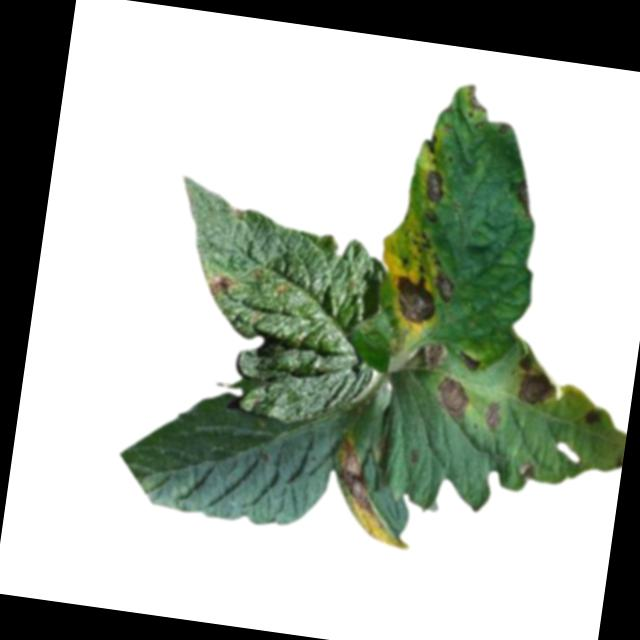Early_blight: (324, 434, 426, 552), (388, 267, 459, 333), (429, 373, 480, 427), (514, 363, 562, 413), (510, 175, 539, 224), (417, 166, 449, 207), (419, 337, 454, 374), (205, 269, 238, 303), (465, 83, 492, 116), (482, 397, 505, 429), (583, 403, 607, 431), (517, 461, 539, 482), (423, 132, 440, 159)
